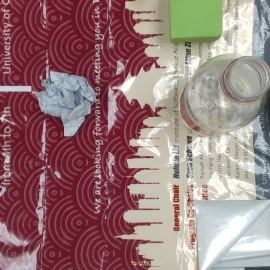bottle: (171, 55, 270, 133)
